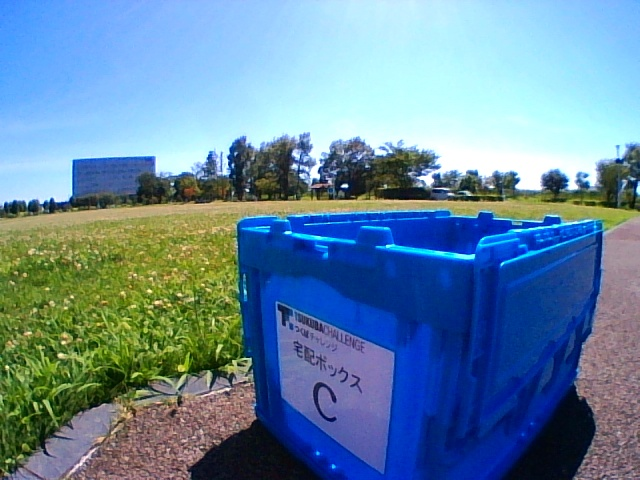blue_box: (237, 209, 602, 480)
tag_c: (313, 357, 343, 424)
